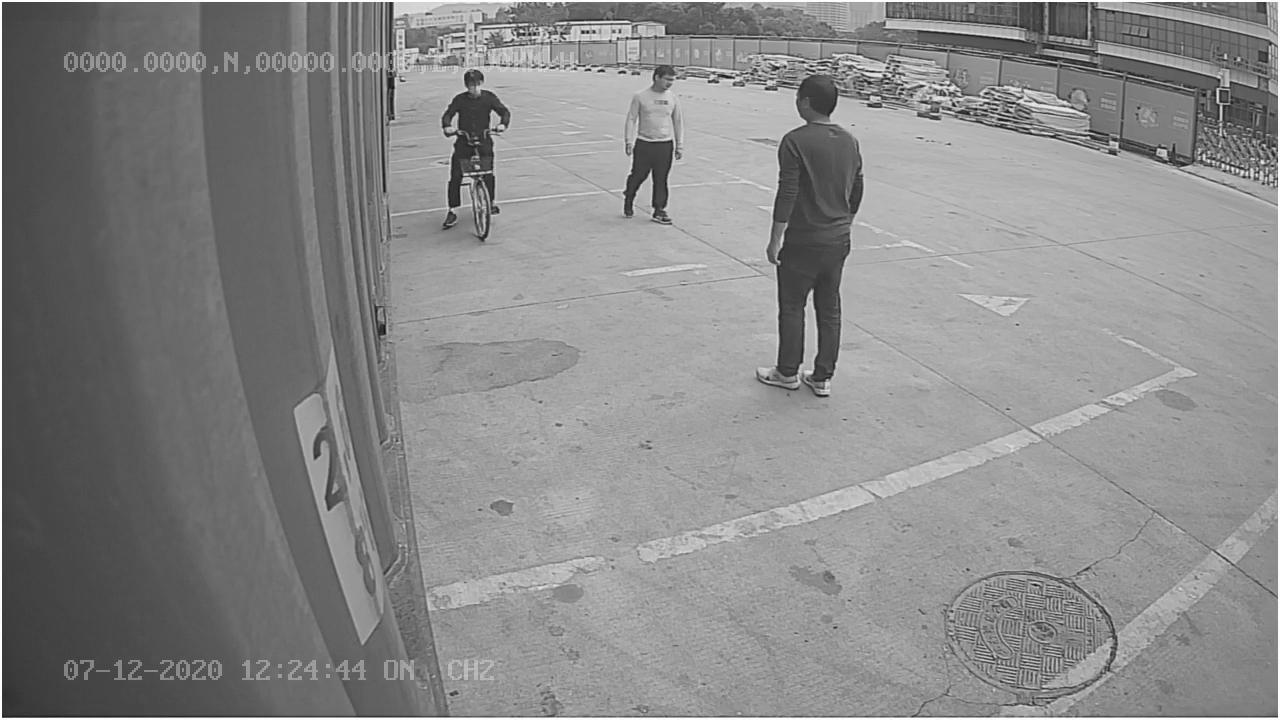person: (746, 73, 872, 401), (618, 64, 686, 228)
